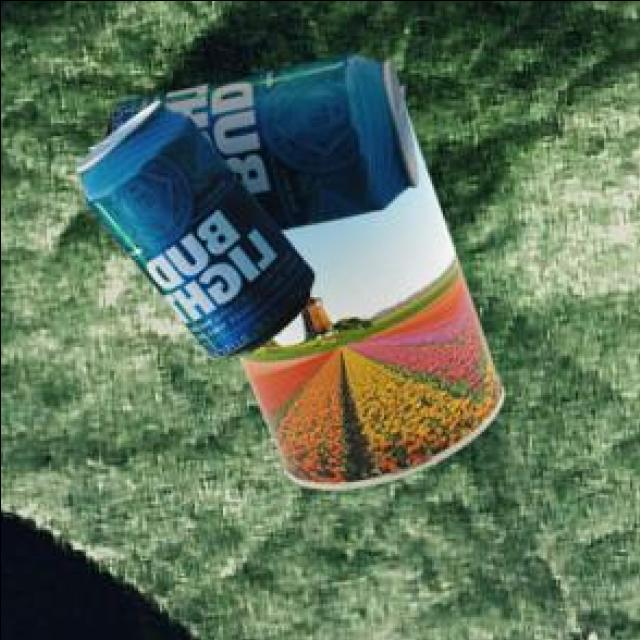logam: (236, 127, 500, 491), (73, 103, 310, 360), (99, 56, 413, 232)
